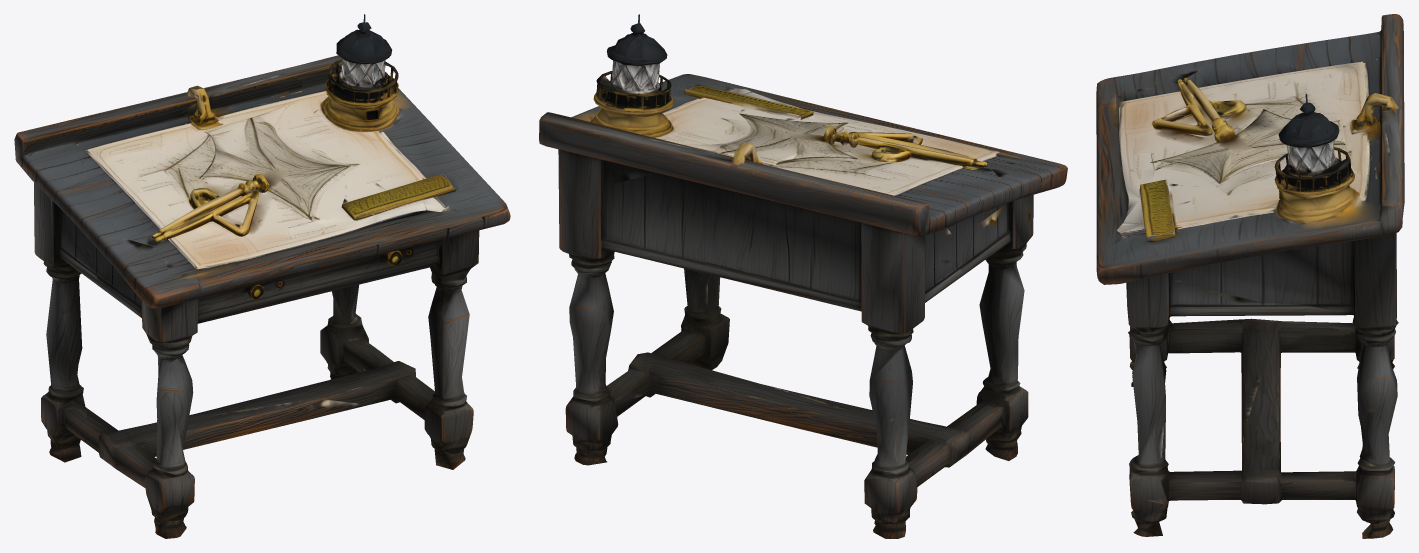
The model's file is lhi_chart_table.glb.
The picture shows the model from 3 angles, left to right: view 1: azimuth 30°, elevation 25°; view 2: azimuth 150°, elevation 25°; view 3: azimuth 270°, elevation 25°; orthographic projection. The views are drawn at different scales.
Visible parts, largest first — view 1: material; view 2: material; view 3: material.
Boxes of the visible parts, x1,y1,x2,y2 form: material: (14, 14, 510, 538); material: (539, 14, 1067, 538); material: (1096, 14, 1404, 538).
Size of the model in its own units: 0.8154 by 0.8691 by 0.5556.
1 material, 1 textured.
